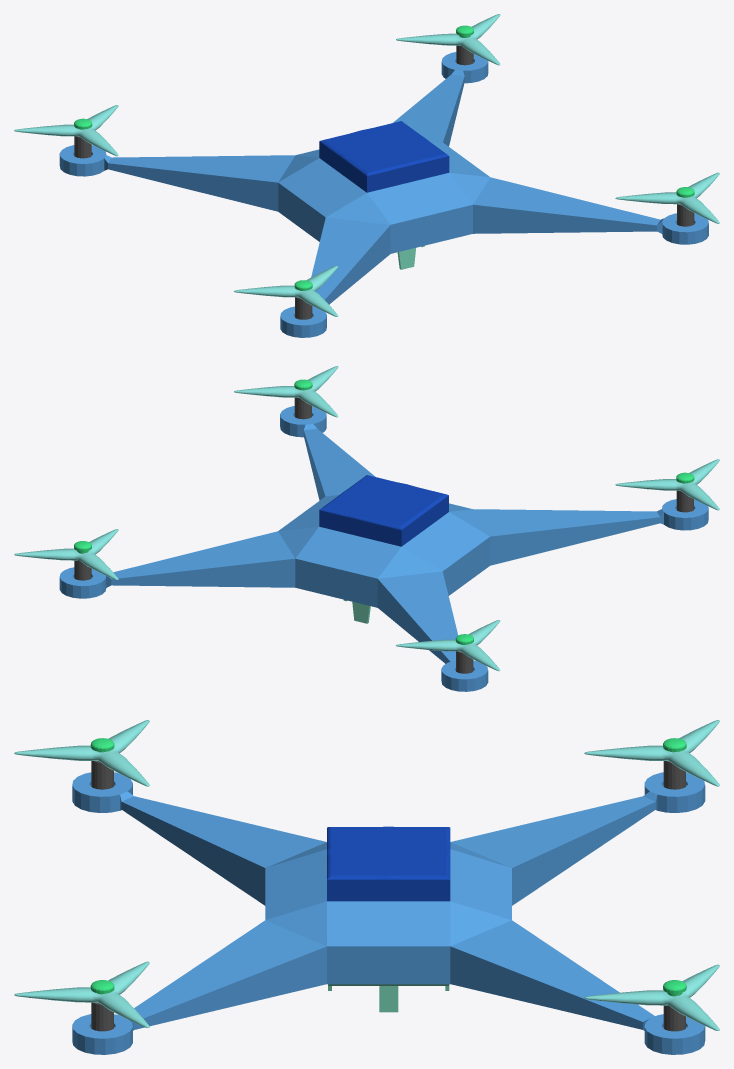
The model's file is drone.fbx.
The picture shows the model from 3 angles, top to bottom: view 1: azimuth 30°, elevation 25°; view 2: azimuth 150°, elevation 25°; view 3: azimuth 270°, elevation 25°; orthographic projection. The views are drawn at different scales.
Visible parts, largest first — view 1: Cube, Circle, Circle.001, Circle.003, Circle.002; view 2: Cube, Circle, Circle.003, Circle.002, Circle.001; view 3: Cube, Circle, Circle.003, Circle.002, Circle.001.
Part boxes in pixels (x1,y1,x2,y2): Cube: (59,25,708,337); Circle: (396,14,500,65); Circle.001: (14,105,118,156); Circle.003: (615,172,719,223); Circle.002: (234,265,338,316); Cube: (59,379,708,691); Circle: (14,529,118,580); Circle.003: (234,366,338,417); Circle.002: (615,459,719,510); Circle.001: (396,620,500,671); Cube: (72,738,705,1054); Circle: (584,964,719,1030); Circle.003: (14,961,149,1027); Circle.002: (14,720,149,786); Circle.001: (584,720,719,786).
Bounding box in the file's own units: 9.87 × 2.06 × 9.57.
